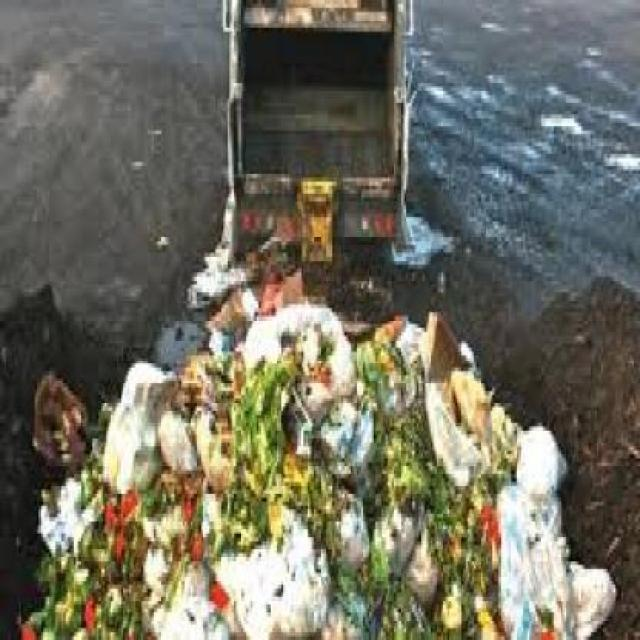garbage: (12, 320, 618, 632)
